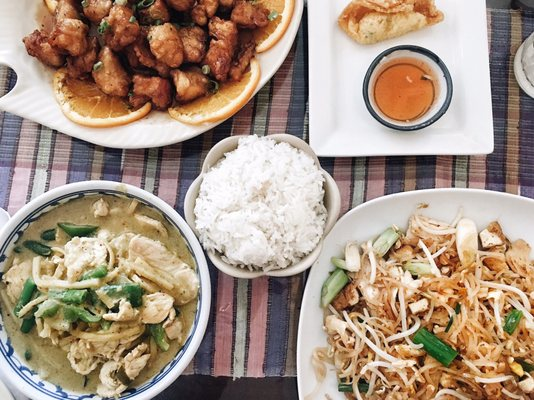sushi: (296, 187, 534, 400), (0, 180, 214, 400), (183, 133, 341, 280), (362, 44, 454, 131), (512, 29, 534, 100)
